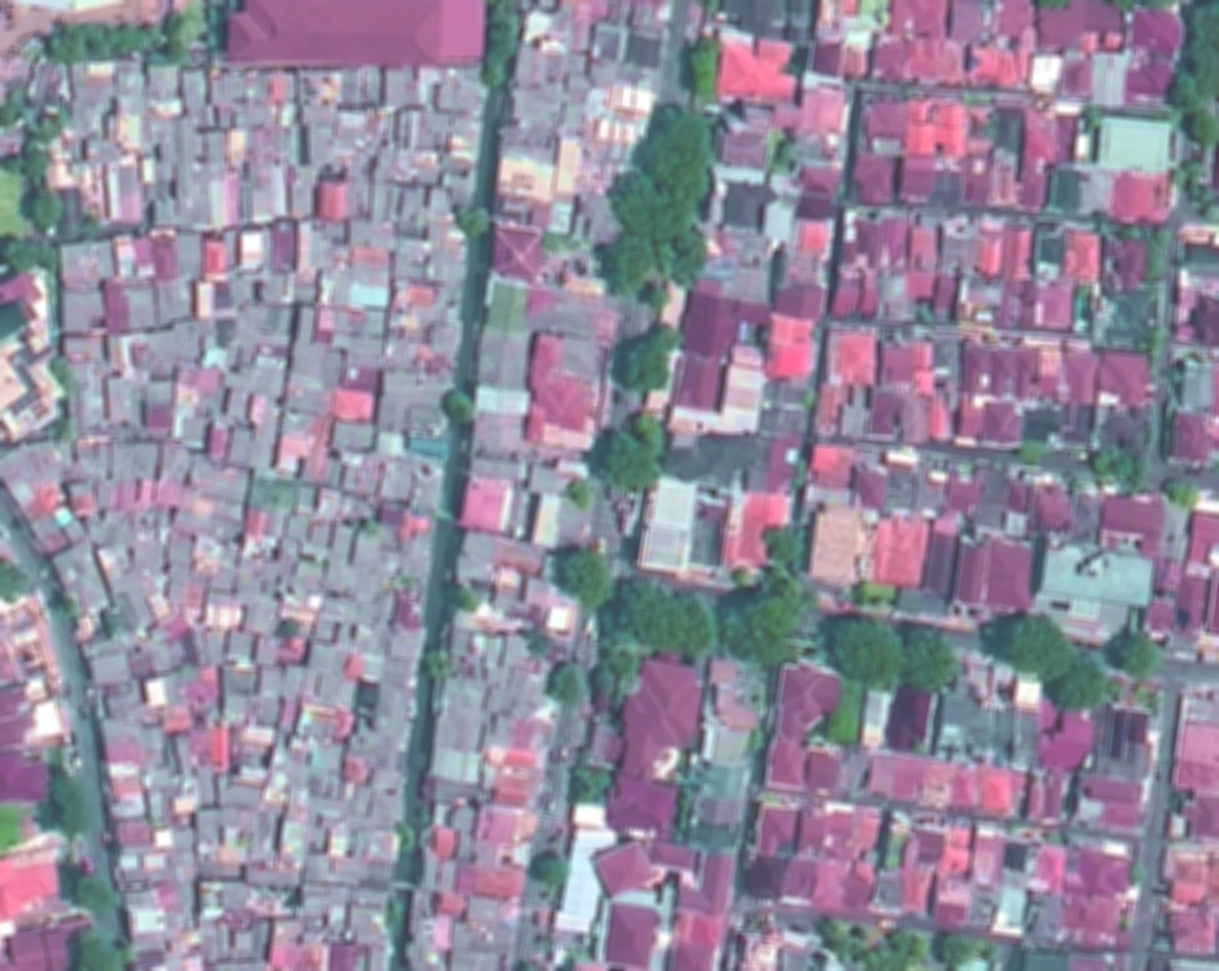building: (473, 0, 676, 287), (490, 37, 599, 236), (811, 332, 963, 459), (225, 0, 484, 65), (364, 68, 479, 185), (918, 98, 1024, 212), (615, 653, 707, 783), (0, 433, 88, 561), (0, 587, 69, 750), (0, 265, 64, 440), (486, 265, 622, 343), (552, 803, 622, 938), (524, 331, 600, 446), (95, 532, 178, 637), (670, 349, 767, 436), (1036, 540, 1155, 609), (281, 304, 352, 418), (472, 276, 541, 392), (927, 689, 1023, 772), (41, 519, 117, 620), (769, 213, 836, 323), (854, 446, 951, 518), (1083, 700, 1163, 786), (695, 653, 773, 738), (659, 424, 756, 492), (720, 485, 792, 575), (636, 476, 700, 574), (491, 141, 559, 232), (772, 661, 844, 746), (716, 31, 800, 103), (582, 76, 656, 148), (806, 503, 869, 586), (959, 340, 1043, 402), (587, 833, 660, 903), (677, 289, 744, 364), (603, 773, 679, 838), (377, 369, 451, 435), (708, 360, 769, 439), (526, 369, 599, 435), (312, 305, 387, 369), (433, 673, 492, 754), (869, 512, 931, 588), (1096, 492, 1168, 557), (948, 760, 1028, 818), (755, 370, 816, 445), (1097, 114, 1173, 174), (221, 344, 293, 406), (1174, 697, 1219, 796), (457, 530, 544, 581), (0, 847, 59, 922), (1044, 478, 1109, 546), (172, 486, 247, 544), (997, 278, 1076, 333), (522, 404, 593, 465), (743, 432, 803, 502), (722, 0, 815, 45), (176, 162, 239, 228), (882, 683, 938, 757), (984, 538, 1038, 612), (602, 901, 659, 970), (1098, 281, 1160, 344), (843, 212, 910, 270), (487, 253, 575, 297), (184, 452, 254, 507), (903, 99, 968, 158), (687, 487, 732, 572), (919, 513, 964, 596), (763, 313, 817, 382), (1040, 701, 1093, 771), (1068, 844, 1134, 899), (1095, 347, 1152, 407), (141, 318, 204, 371), (672, 351, 725, 413), (1006, 694, 1049, 770), (489, 224, 545, 282), (1110, 170, 1170, 224), (719, 180, 779, 234), (58, 239, 117, 293), (267, 918, 327, 971), (1092, 403, 1153, 455), (266, 918, 325, 971), (159, 609, 210, 670), (0, 927, 70, 971), (512, 41, 569, 95), (694, 849, 738, 918), (125, 902, 187, 950), (453, 861, 526, 901), (136, 105, 188, 161), (1129, 5, 1185, 57), (864, 267, 914, 325), (330, 365, 379, 424), (227, 730, 277, 787), (1061, 891, 1121, 938), (142, 669, 194, 723), (276, 409, 327, 464), (459, 477, 508, 533), (407, 913, 454, 971), (752, 800, 799, 858), (952, 539, 991, 608), (966, 44, 1030, 86), (968, 825, 1007, 893), (739, 851, 789, 904), (0, 750, 49, 804), (578, 330, 611, 410), (935, 693, 982, 749), (472, 410, 529, 456), (345, 886, 387, 948), (805, 441, 858, 490), (717, 256, 771, 304), (1024, 888, 1071, 943), (1170, 570, 1211, 633), (348, 248, 391, 308), (1088, 48, 1131, 108), (85, 507, 141, 552), (851, 149, 896, 205), (764, 735, 809, 791), (1154, 496, 1193, 560), (246, 403, 282, 472), (1169, 411, 1215, 465), (1164, 848, 1208, 904), (798, 83, 847, 133), (1124, 54, 1174, 103), (1025, 485, 1075, 534), (1022, 770, 1067, 824), (1176, 292, 1219, 348), (472, 800, 521, 849), (489, 766, 538, 815), (86, 635, 132, 687), (717, 127, 771, 171), (446, 107, 486, 166), (1177, 359, 1219, 415), (142, 606, 193, 652), (319, 240, 353, 309), (973, 466, 1009, 531), (1059, 347, 1100, 404), (553, 496, 596, 550), (986, 149, 1025, 208), (957, 276, 1003, 326), (508, 87, 564, 128), (55, 438, 109, 480), (246, 802, 282, 865), (857, 687, 893, 750), (429, 745, 484, 786), (277, 590, 321, 641), (472, 381, 531, 419), (889, 0, 948, 38), (1080, 774, 1144, 809), (931, 874, 973, 927), (106, 166, 143, 226), (809, 857, 850, 911), (1039, 0, 1085, 48), (0, 684, 33, 750), (198, 878, 252, 918), (836, 331, 876, 385), (990, 883, 1030, 937), (347, 722, 396, 766), (1171, 910, 1219, 954), (189, 725, 232, 774), (756, 401, 808, 441), (579, 190, 618, 243), (645, 837, 699, 875), (802, 745, 843, 795), (530, 490, 564, 550), (1063, 229, 1103, 280), (246, 476, 298, 515), (840, 861, 879, 913), (70, 62, 115, 107), (780, 855, 820, 905), (175, 314, 220, 358), (836, 744, 873, 797), (513, 620, 557, 664), (903, 35, 945, 81), (154, 277, 195, 324), (940, 228, 981, 275), (1032, 228, 1068, 281), (69, 374, 103, 430), (1185, 510, 1219, 566), (898, 153, 936, 203), (1036, 278, 1074, 328), (553, 133, 584, 194), (906, 223, 943, 274), (346, 217, 398, 253), (927, 159, 965, 208), (1078, 166, 1115, 216), (98, 681, 141, 724), (61, 290, 104, 333), (864, 97, 907, 140), (382, 66, 427, 107), (981, 401, 1022, 446), (242, 884, 293, 920), (883, 462, 919, 513), (695, 789, 746, 825), (919, 759, 956, 808), (979, 765, 1016, 814), (202, 589, 244, 632), (154, 440, 195, 484), (433, 706, 473, 751), (743, 463, 793, 499), (102, 718, 141, 764), (1046, 166, 1083, 214), (991, 103, 1025, 155), (830, 268, 864, 320), (1025, 106, 1056, 162), (773, 285, 824, 319), (795, 806, 829, 857), (1001, 226, 1033, 280), (1017, 158, 1050, 210), (123, 283, 159, 330), (892, 754, 928, 801), (249, 853, 300, 886), (850, 808, 883, 859), (623, 30, 664, 71), (375, 681, 410, 729), (420, 68, 460, 110), (699, 763, 747, 798), (1004, 946, 1071, 971), (930, 336, 961, 390), (589, 21, 627, 65), (330, 386, 375, 423), (930, 271, 961, 324), (241, 595, 280, 637), (711, 725, 749, 768), (864, 750, 898, 798), (1035, 842, 1067, 893), (306, 640, 350, 677), (1027, 50, 1064, 94), (935, 40, 971, 85), (673, 883, 718, 919), (402, 281, 435, 330), (953, 395, 986, 444), (950, 761, 983, 810), (469, 453, 521, 484), (463, 924, 513, 956), (378, 652, 419, 691), (409, 466, 443, 513), (379, 368, 422, 405), (910, 824, 947, 867), (880, 212, 910, 265), (963, 149, 991, 205), (854, 465, 888, 511), (378, 462, 416, 503), (89, 650, 131, 687), (102, 280, 130, 335), (1060, 403, 1095, 447), (334, 108, 366, 156), (115, 61, 145, 112), (349, 620, 388, 659), (173, 366, 202, 418), (667, 942, 719, 971), (403, 432, 450, 464), (825, 810, 855, 860), (939, 826, 970, 874), (387, 622, 425, 661), (373, 395, 410, 435), (1117, 238, 1146, 289), (300, 70, 341, 106), (416, 110, 452, 151), (350, 530, 385, 572), (949, 0, 984, 42), (366, 589, 400, 632), (374, 506, 407, 550), (145, 637, 184, 674), (300, 440, 332, 485), (345, 333, 385, 369), (451, 78, 487, 118), (430, 777, 478, 807), (998, 0, 1034, 40), (464, 894, 506, 928), (873, 38, 907, 80), (946, 472, 980, 514), (220, 777, 263, 810), (491, 570, 523, 614), (762, 198, 794, 242), (1053, 113, 1080, 165), (1183, 241, 1219, 280), (796, 218, 832, 257), (131, 532, 166, 572), (391, 592, 426, 632), (168, 529, 193, 585), (217, 826, 252, 866), (882, 822, 910, 872), (369, 181, 402, 223), (902, 866, 932, 912), (57, 187, 84, 238), (289, 168, 316, 219), (159, 705, 196, 742), (12, 0, 126, 12), (965, 889, 1000, 928), (795, 192, 839, 223), (800, 165, 841, 198), (1021, 404, 1054, 445), (149, 233, 177, 281), (175, 231, 203, 279), (397, 184, 426, 230), (354, 454, 385, 497), (483, 367, 526, 398), (291, 554, 326, 592), (221, 627, 256, 665), (386, 146, 420, 185), (533, 317, 573, 350), (1084, 0, 1124, 33), (239, 229, 270, 271), (979, 224, 1004, 276), (226, 271, 260, 309), (809, 40, 843, 78), (330, 420, 373, 450), (873, 869, 903, 912), (311, 670, 344, 709), (238, 918, 270, 958), (272, 220, 297, 271), (586, 136, 611, 187), (1195, 294, 1219, 347), (105, 376, 132, 423), (309, 740, 344, 776), (369, 791, 405, 826), (317, 179, 347, 221), (446, 800, 481, 836), (519, 574, 554, 610), (164, 529, 196, 568), (319, 593, 358, 625), (180, 68, 209, 111), (327, 522, 356, 565), (547, 191, 576, 234), (32, 698, 63, 738), (189, 533, 225, 567), (742, 939, 780, 971), (1192, 795, 1219, 840), (225, 424, 253, 467), (130, 232, 156, 278), (64, 104, 100, 137), (235, 571, 271, 604), (527, 463, 563, 496), (110, 790, 147, 822), (335, 492, 372, 524), (220, 665, 258, 696), (235, 304, 263, 346), (1061, 58, 1091, 97), (110, 441, 137, 484), (69, 574, 103, 608), (1072, 796, 1106, 830), (877, 333, 918, 361), (1004, 478, 1035, 515), (112, 234, 138, 278), (139, 725, 165, 769), (67, 479, 97, 517), (429, 825, 459, 863), (268, 163, 289, 217), (519, 667, 548, 706), (110, 333, 134, 380), (198, 857, 243, 882), (186, 666, 219, 700), (273, 751, 306, 785), (105, 732, 140, 764), (321, 560, 353, 595), (351, 569, 386, 601), (305, 793, 348, 819), (48, 159, 84, 190), (219, 691, 250, 727), (130, 922, 167, 952), (115, 109, 142, 150), (454, 603, 492, 632), (735, 298, 773, 327), (146, 195, 179, 228), (110, 768, 145, 799), (129, 906, 166, 935), (348, 282, 389, 308), (172, 733, 195, 779), (194, 761, 217, 807), (175, 414, 207, 447), (148, 65, 180, 98), (211, 72, 244, 104), (152, 477, 185, 509), (373, 429, 407, 460), (203, 421, 230, 460), (445, 171, 475, 206), (309, 126, 335, 166), (115, 818, 152, 846), (406, 403, 444, 430), (61, 332, 93, 364), (429, 323, 460, 356), (283, 509, 313, 543), (378, 734, 408, 768), (1153, 557, 1183, 591), (1002, 840, 1032, 874), (117, 852, 146, 887), (346, 782, 374, 818), (401, 531, 432, 563), (276, 634, 307, 666), (280, 662, 306, 700), (369, 767, 403, 796), (123, 885, 159, 912), (247, 126, 273, 163), (207, 563, 238, 594), (251, 695, 282, 726), (329, 854, 360, 885), (141, 502, 174, 531), (127, 645, 156, 678), (587, 58, 620, 87), (1147, 600, 1175, 634), (82, 138, 120, 163), (280, 820, 307, 855), (157, 883, 193, 909), (373, 144, 397, 183), (239, 534, 269, 565), (171, 928, 201, 959), (375, 503, 407, 532), (1102, 804, 1139, 829), (203, 234, 225, 276), (314, 487, 341, 521), (915, 342, 933, 393), (248, 187, 273, 223), (310, 613, 339, 644), (141, 764, 172, 793), (472, 838, 501, 869), (348, 885, 387, 908), (253, 635, 280, 668), (434, 859, 459, 894), (136, 441, 159, 479), (309, 816, 332, 854), (341, 67, 364, 105), (482, 632, 505, 670), (303, 851, 331, 882), (196, 808, 220, 844), (269, 69, 296, 101), (490, 714, 514, 750), (1177, 287, 1198, 328), (243, 507, 269, 540), (287, 126, 309, 165), (420, 852, 442, 891), (907, 270, 936, 299), (328, 942, 357, 971), (366, 830, 394, 860), (306, 519, 333, 550), (441, 223, 468, 254), (355, 680, 378, 716), (392, 255, 426, 279), (502, 634, 526, 668), (402, 510, 431, 538), (304, 771, 333, 799), (456, 818, 474, 863), (257, 666, 283, 697), (273, 98, 299, 129), (336, 676, 359, 711), (245, 102, 277, 127), (448, 626, 473, 658), (314, 307, 335, 345), (929, 396, 948, 438), (1068, 952, 1110, 971), (243, 722, 276, 746), (1001, 105, 1029, 133), (144, 404, 173, 431), (544, 604, 571, 633), (780, 944, 809, 971), (332, 620, 358, 650), (200, 919, 219, 960), (129, 950, 166, 971), (204, 628, 225, 665), (1069, 596, 1100, 621), (301, 104, 336, 126), (245, 70, 269, 102), (247, 393, 270, 426), (24, 675, 50, 704), (144, 378, 173, 404), (302, 884, 328, 913), (94, 480, 118, 511), (144, 676, 167, 708), (330, 710, 353, 742), (362, 859, 389, 886), (113, 480, 135, 513), (428, 186, 450, 219), (504, 747, 537, 769), (217, 540, 242, 569), (363, 66, 382, 104), (166, 579, 189, 610), (279, 434, 310, 457), (198, 368, 220, 400), (227, 128, 246, 165), (279, 697, 299, 732), (339, 461, 362, 491), (606, 139, 632, 165), (55, 438, 78, 467), (434, 284, 460, 309), (195, 698, 219, 725), (437, 261, 464, 285), (438, 893, 466, 916), (265, 509, 286, 539), (344, 756, 368, 782), (356, 599, 378, 627), (0, 641, 14, 684), (151, 825, 175, 850), (343, 652, 365, 679), (340, 595, 359, 626), (349, 218, 369, 247), (197, 281, 213, 317), (365, 947, 389, 971), (361, 655, 383, 681), (328, 826, 347, 856), (296, 485, 317, 512), (430, 801, 451, 828), (120, 841, 155, 857), (346, 178, 360, 218), (107, 760, 138, 778), (289, 737, 308, 766), (396, 110, 410, 149), (189, 129, 206, 160), (148, 790, 166, 819), (296, 707, 314, 736), (487, 687, 507, 713), (339, 109, 366, 128), (95, 441, 109, 477), (136, 478, 154, 506), (277, 549, 295, 576), (915, 369, 934, 394), (957, 957, 990, 971), (175, 860, 195, 883), (219, 804, 239, 827), (348, 309, 366, 334), (329, 904, 346, 930), (231, 929, 251, 951), (139, 156, 155, 183), (0, 527, 13, 560), (328, 885, 348, 906), (287, 805, 307, 825), (168, 849, 194, 864), (203, 348, 223, 367), (173, 796, 195, 813), (217, 105, 233, 128), (334, 110, 346, 139), (387, 549, 402, 572), (1043, 377, 1060, 397), (354, 832, 366, 858), (298, 68, 328, 78), (706, 237, 722, 254), (308, 592, 323, 610), (298, 227, 304, 272), (582, 283, 603, 295), (697, 277, 715, 291), (458, 153, 471, 169), (514, 347, 526, 364), (108, 719, 128, 727), (862, 451, 874, 463), (250, 165, 264, 173), (381, 281, 387, 298)
tree: (703, 589, 802, 685), (629, 101, 722, 199), (605, 316, 696, 407), (597, 161, 684, 251), (590, 403, 674, 496), (545, 534, 631, 620), (994, 603, 1079, 688), (1041, 644, 1119, 723), (618, 573, 682, 656), (828, 612, 902, 683), (592, 230, 668, 299), (1102, 617, 1173, 687), (1084, 436, 1157, 495), (898, 621, 955, 689), (45, 761, 94, 840), (476, 4, 520, 91), (666, 591, 724, 656), (822, 675, 875, 746), (751, 569, 807, 635), (1181, 0, 1217, 97), (0, 228, 61, 285), (654, 228, 710, 288), (1171, 159, 1219, 225), (597, 619, 647, 678), (861, 926, 925, 971), (684, 35, 727, 99), (69, 928, 134, 970), (65, 865, 115, 917), (811, 915, 861, 966), (1, 140, 56, 186), (40, 19, 90, 69), (540, 658, 590, 707), (88, 21, 162, 54), (761, 520, 808, 567), (445, 199, 493, 245), (1164, 68, 1209, 117), (525, 843, 573, 888), (434, 384, 479, 429), (21, 185, 62, 233), (566, 770, 611, 808), (1157, 473, 1202, 509), (25, 112, 65, 152), (932, 933, 976, 966), (768, 131, 803, 169), (1187, 108, 1219, 147), (0, 93, 32, 130), (452, 584, 485, 617), (1148, 229, 1170, 278), (422, 648, 453, 678), (160, 13, 187, 47), (4, 561, 30, 596), (147, 43, 188, 65), (846, 579, 876, 609), (384, 899, 409, 933), (1014, 441, 1049, 464), (1147, 323, 1167, 363), (390, 824, 417, 852), (52, 355, 74, 388), (564, 481, 594, 505), (847, 919, 873, 945), (1081, 108, 1105, 131), (654, 284, 674, 307), (1125, 860, 1144, 884), (808, 724, 830, 744), (747, 730, 767, 750), (701, 0, 719, 16), (361, 518, 380, 533)
